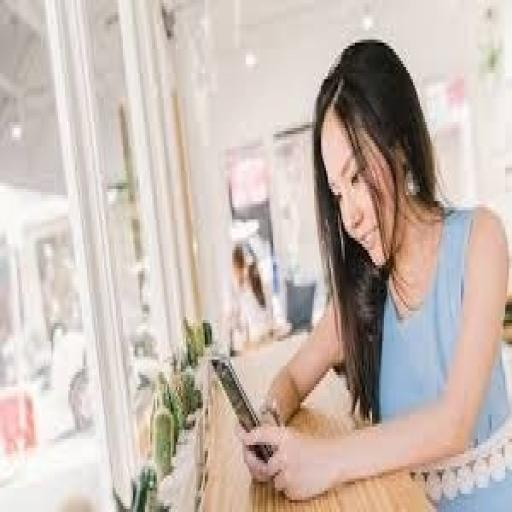texting: (232, 33, 509, 503)
